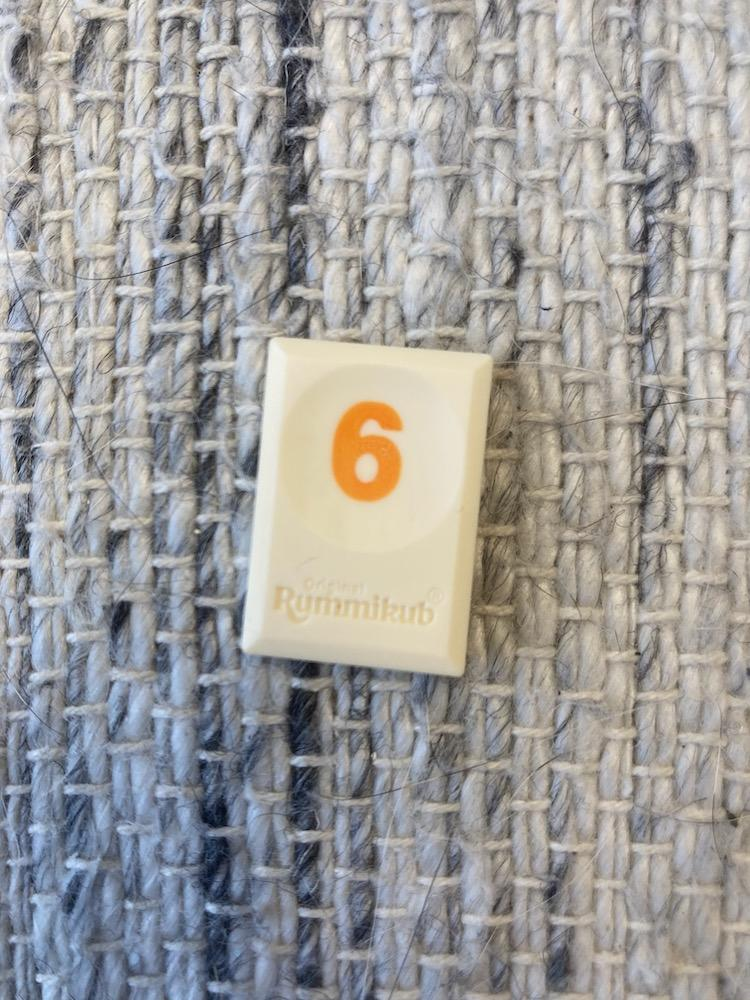orange_6: (242, 338, 492, 676)
